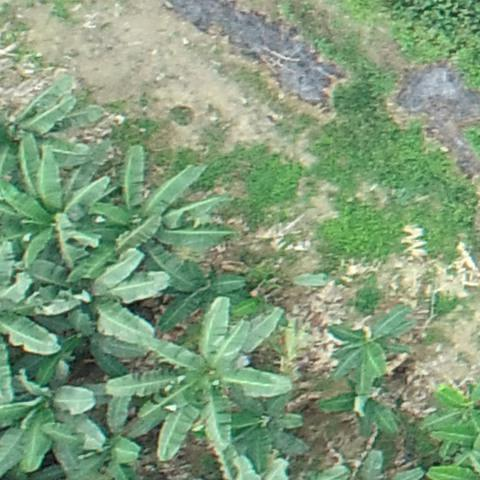Banana-plant: (120, 294, 297, 462), (82, 143, 229, 286), (3, 136, 108, 271), (52, 246, 169, 360), (0, 351, 107, 466), (323, 301, 424, 402), (428, 381, 480, 463)
